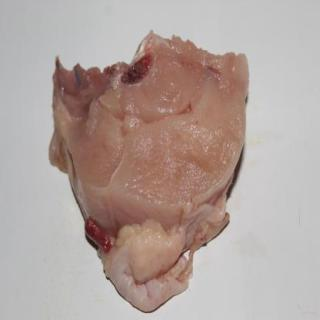Ayam: (53, 36, 250, 311)
